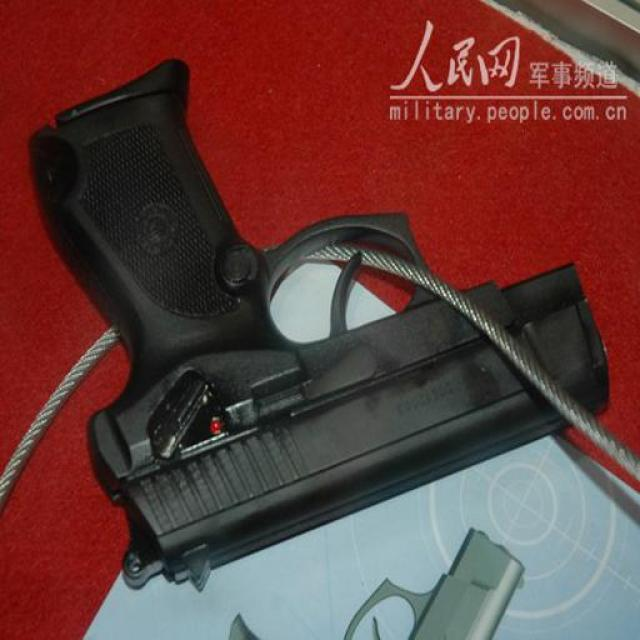pistol: (26, 59, 612, 594)
